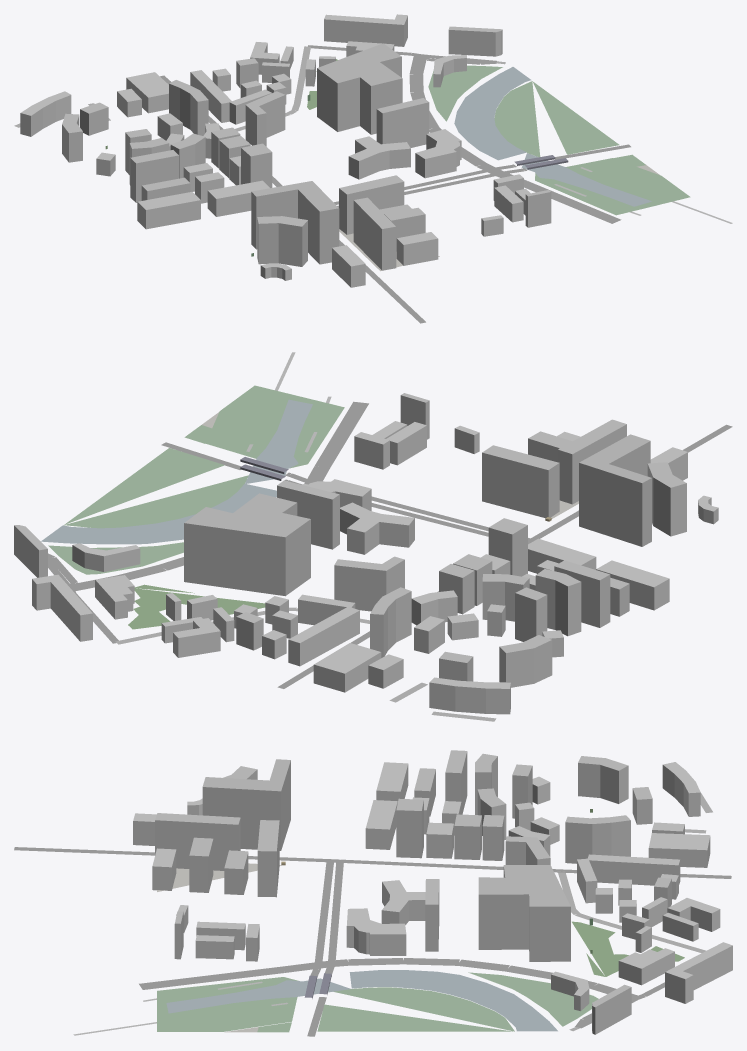
3 views of the same model, one above another, from view 1: azimuth 30°, elevation 25°; view 2: azimuth 150°, elevation 25°; view 3: azimuth 270°, elevation 25° (orthographic). The views are drawn at different scales.
Size of the model in its own units: 537 by 63.11 by 654.
